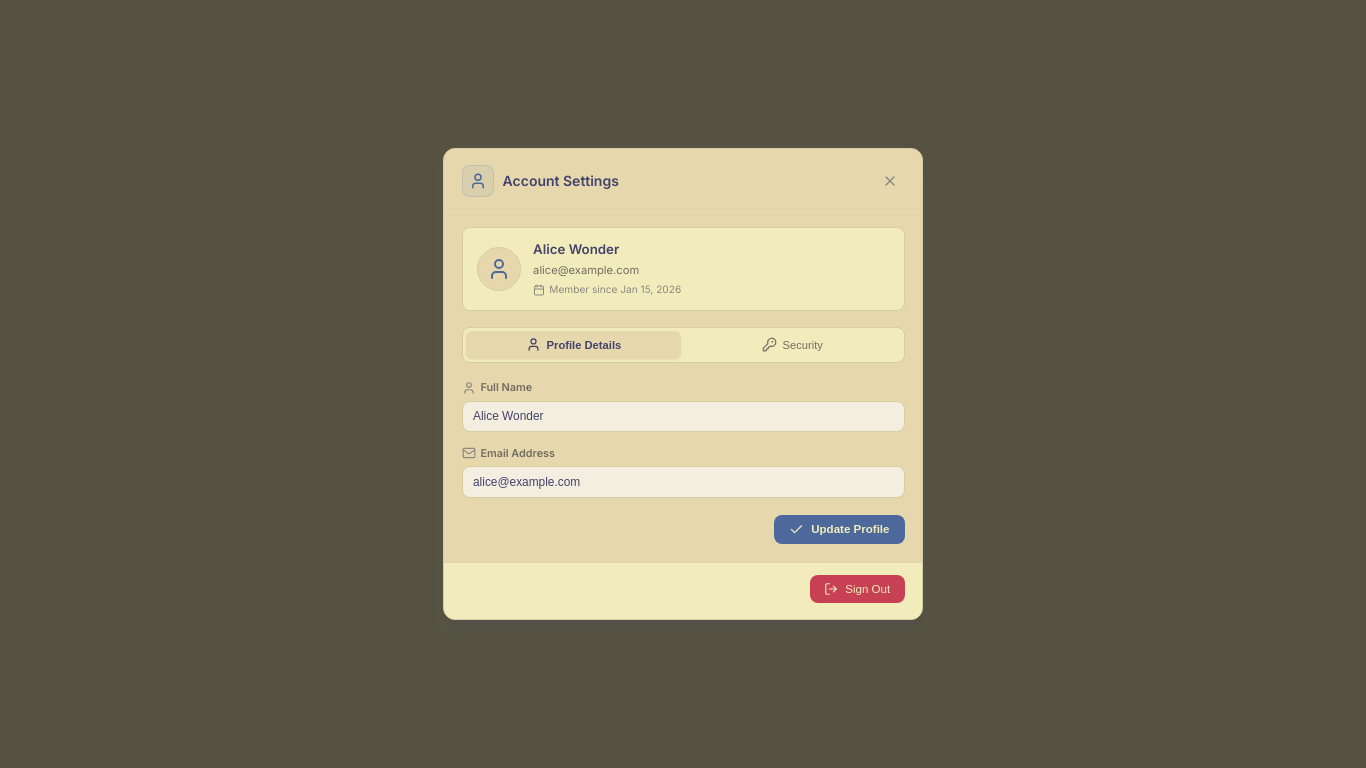
Component: ProfileModal (app/components/ProfileModal.vue) › Security / Change Password Form & Validation › validates missing new password
Click the tab "Security" at (792, 345), box [685,331,900,359]
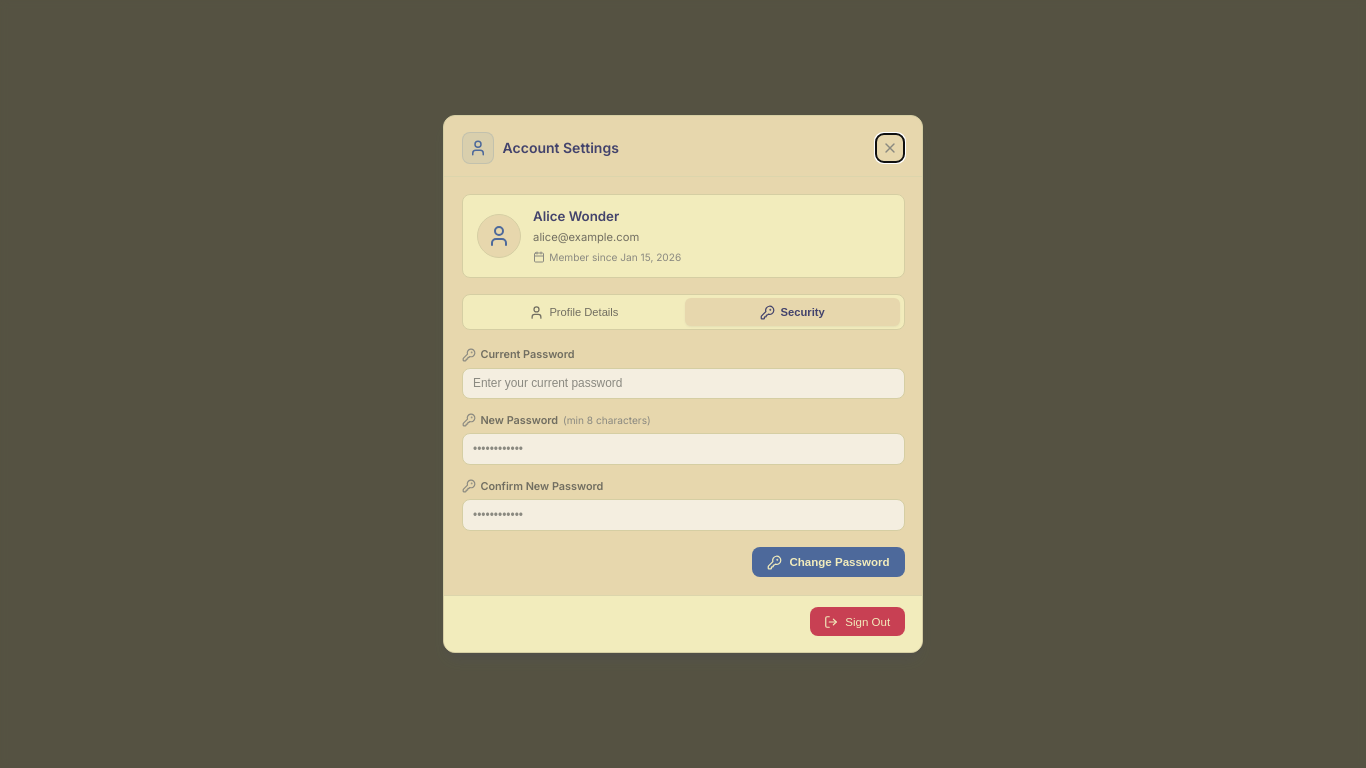
Type "oldPassword123" into the password field with id "current-password" at (683, 383), box [462,368,904,399]
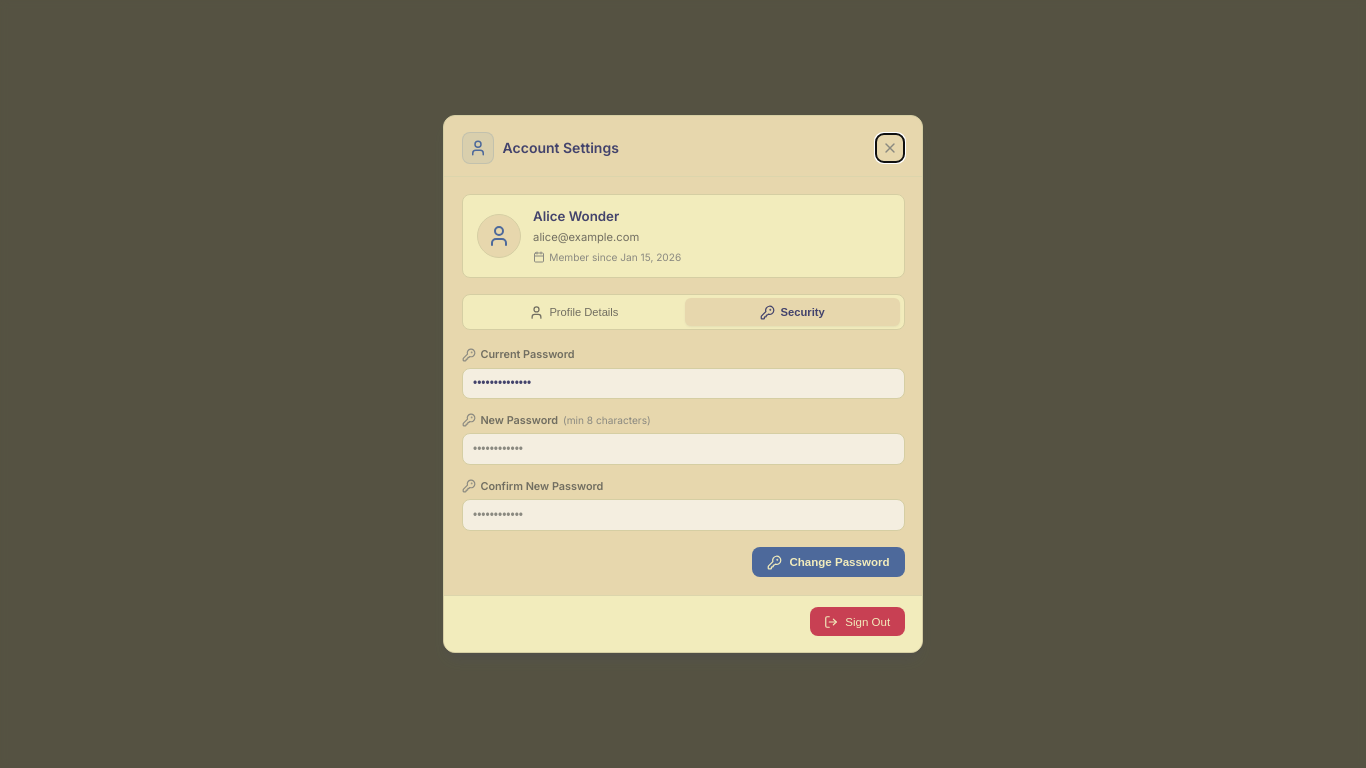
Submit the form, box [462,346,904,577]
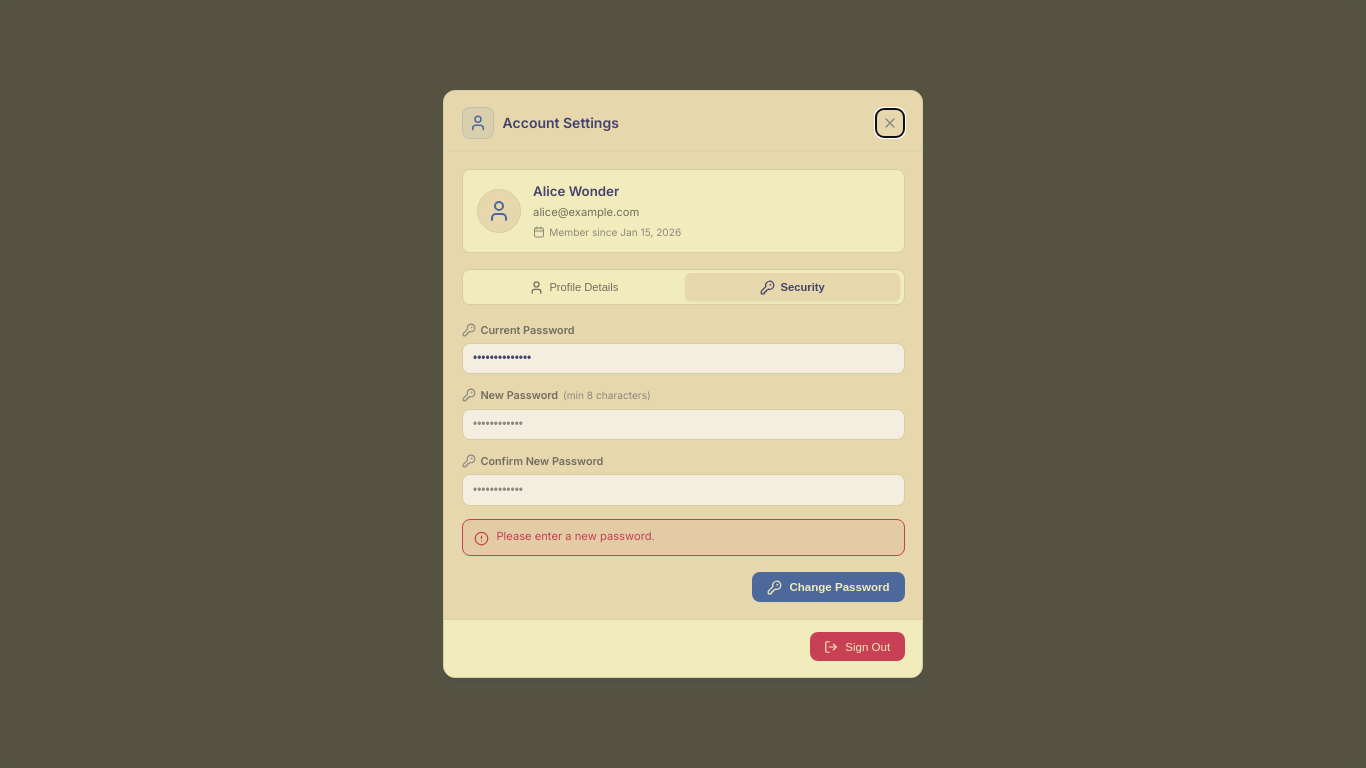
Expected: the message "Please enter a new password." is shown, [462,519,904,556]
